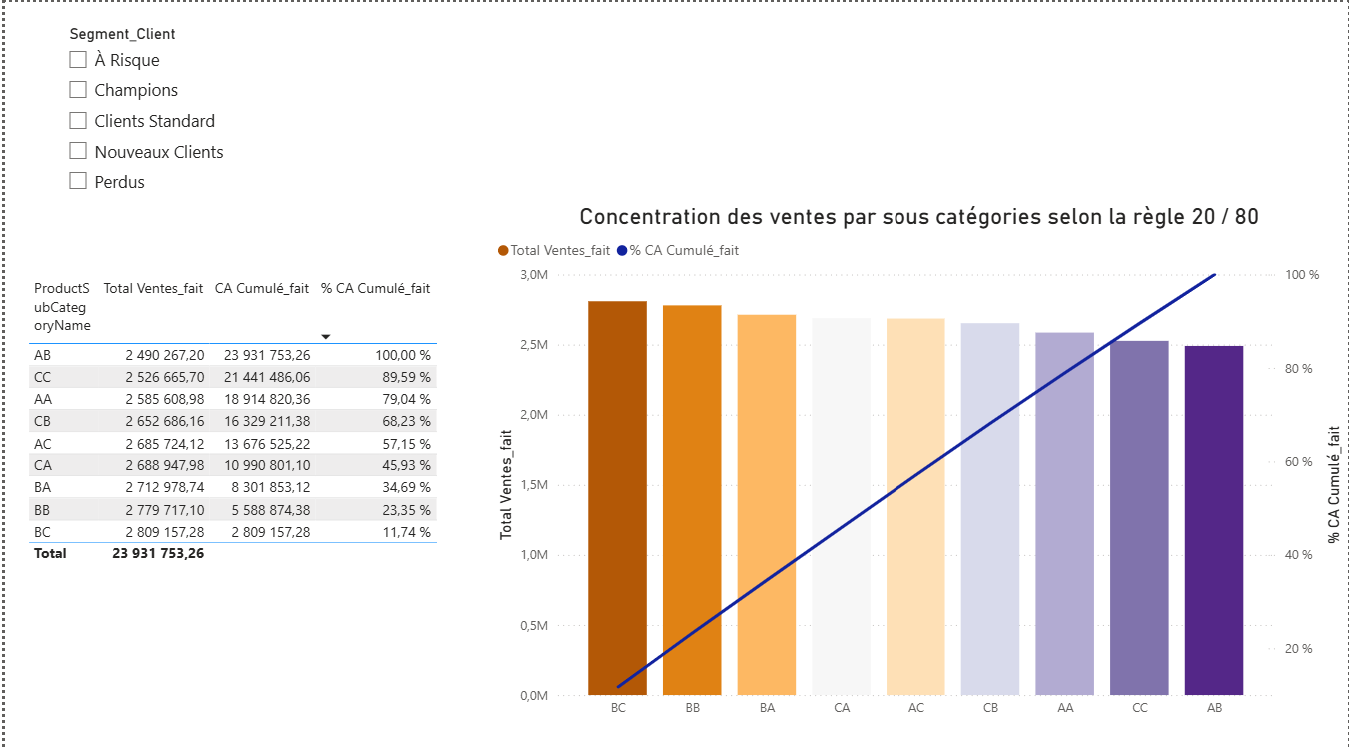

The page's visual inventory and layout, read from the dashboard file:
{"tool":"powerbi","page":{"name":"20/80","canvas":[1280,720],"ordinal":1},"visuals":[{"type":"lineClusteredColumnComboChart","title":"Concentration des ventes  par sous catégories selon la règle 20 / 80 ","fields":{"Category":["DimProductSubCategory.ProductSubCategoryName"],"Y":["FactTransaction.Total Ventes_fait"],"Y2":["FactTransaction.% CA Cumulé_fait"]},"box":[464,192,816,512],"z":1000},{"type":"slicer","fields":{"Values":["Table_RFM.Segment_Client"]},"box":[48,16,1184,176],"z":2000},{"type":"tableEx","fields":{"Values":["DimProductSubCategory.ProductSubCategoryName","FactTransaction.Total Ventes_fait","FactTransaction.CA Cumulé_fait","FactTransaction.% CA Cumulé_fait"]},"box":[16,256,448,304],"z":3000}]}

Visuals, with their boxes in screenshot pixels (x1, y1, x2, y2), scaled from the page's 1280x720 canvas onto the 1349x749 screenshot:
"Concentration des ventes  par sous catégories selon la règle 20 / 80 " lineClusteredColumnComboChart: [489, 200, 1348, 732]
slicer - Table_RFM.Segment_Client: [51, 17, 1298, 200]
tableEx - DimProductSubCategory.ProductSubCategoryName x FactTransaction.Total Ventes_fait: [17, 266, 489, 583]
